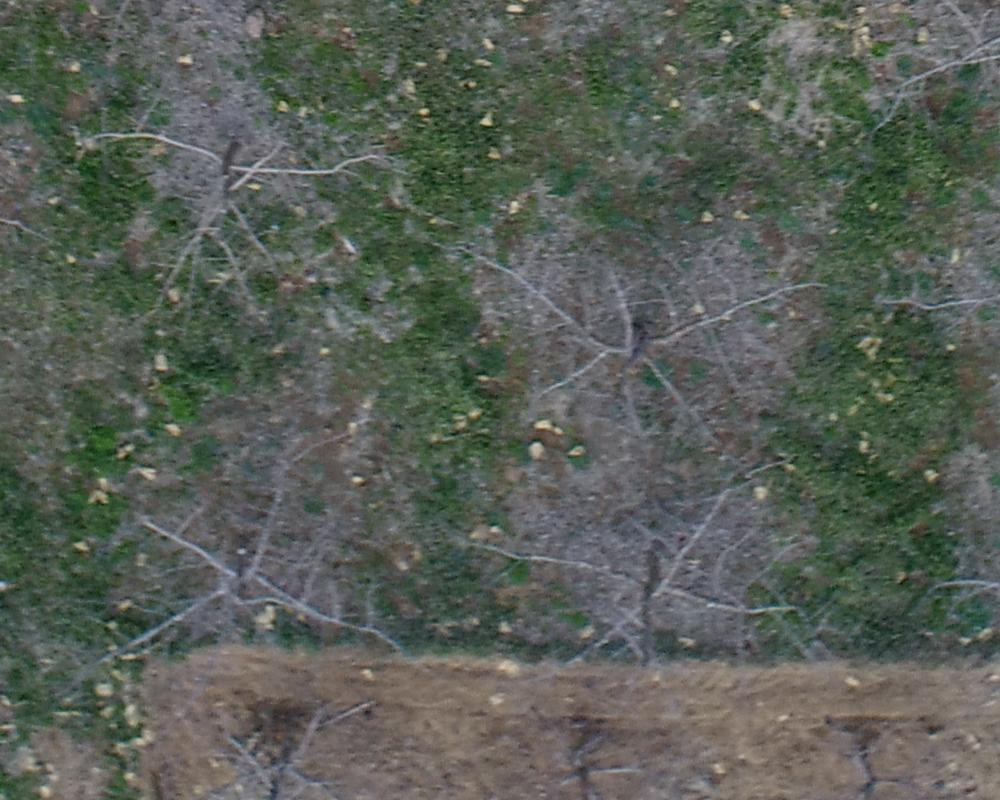apple: (423, 214, 828, 447), (62, 49, 383, 338), (453, 468, 841, 703), (94, 455, 423, 684), (138, 671, 395, 790), (767, 692, 938, 790), (512, 686, 671, 790)
